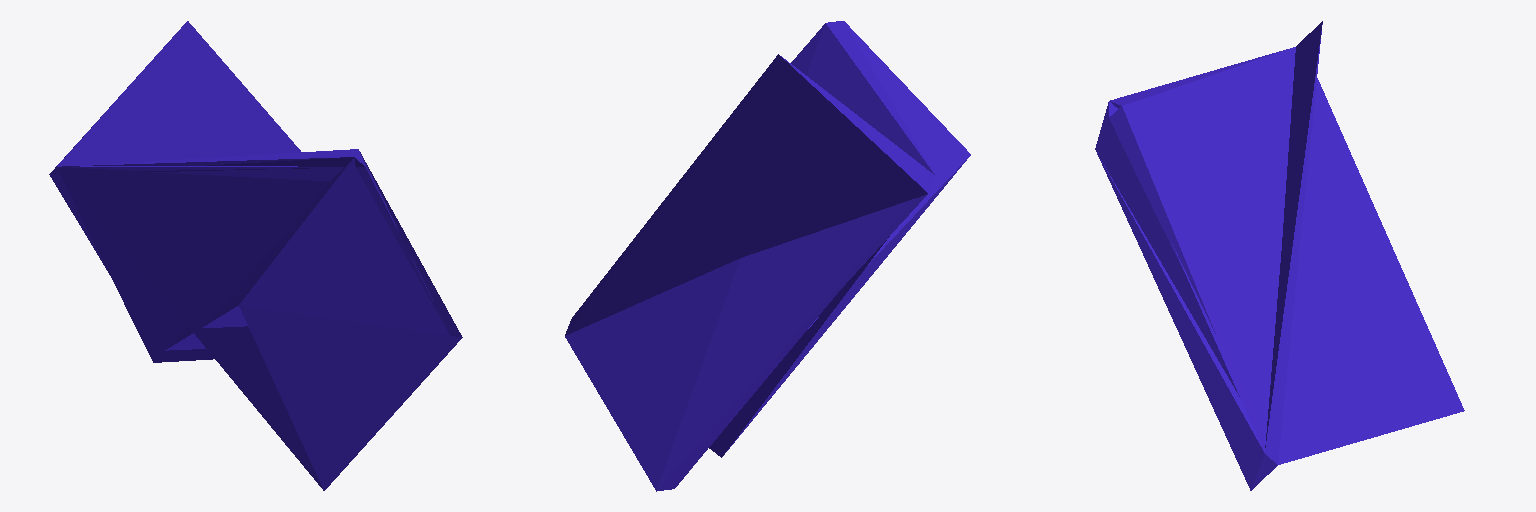
URDF robot description (zonopy_mesh_step24_link6_num2.obj):
<robot name="zonopy_mesh_step24_link6_num2.obj">
	<link name="link0">
		<visual>
			<origin xyz="0 0 0" rpy="0 0 0" />
			<geometry>
				<mesh filename="zonopy_mesh_step24_link6_num2.obj" scale="1.0 1.0 1.0" />
			</geometry>
			<material name="texture">
				<color rgba="0.3 0.2 0.8 0.5" />
			</material>
		</visual>
		<inertial>
			<mass value="0" />
			<inertia ixx="0.0" ixy="0.0" ixz="0.0" iyy="0.0" iyz="0.0" izz="0.0" />
		</inertial>
	<collision><geometry><mesh filename="zonopy_mesh_step24_link6_num2.obj" /></geometry></collision></link>
</robot>

--- What the picture shows (computed from the rendered views, not written in the file) ---
Views: 3 orthographic renders of the robot side by side, from view 1: azimuth 30°, elevation 25°; view 2: azimuth 150°, elevation 25°; view 3: azimuth 270°, elevation 25°.
Model zonopy_mesh_step24_link6_num2.obj with 1 links and 0 joints (none), rooted at link0, posed every joint at zero.
Visible links, largest first — view 1: link0; view 2: link0; view 3: link0.
Boxes of the visible links, x1,y1,x2,y2 form: link0: (49,21,462,490); link0: (565,21,970,491); link0: (1095,21,1464,490).
Size in the robot's own frame: 0.1648 by 0.1478 by 0.1884 metres.
Meshes: 1 distinct files referenced, 1 mesh visuals loaded (1 OBJ).